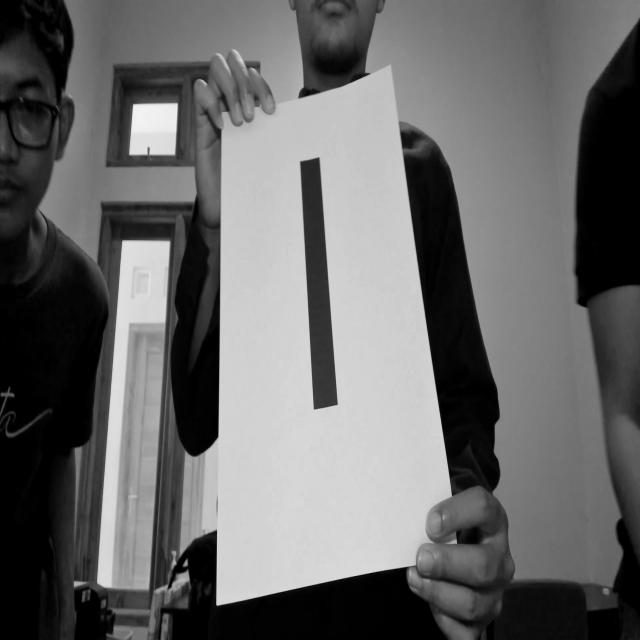i: (284, 144, 376, 444)
